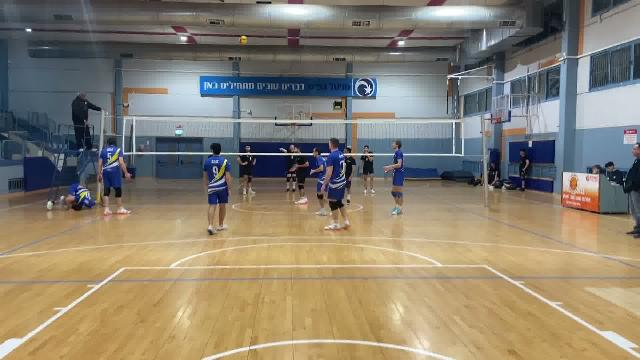ball: (237, 35, 250, 46)
